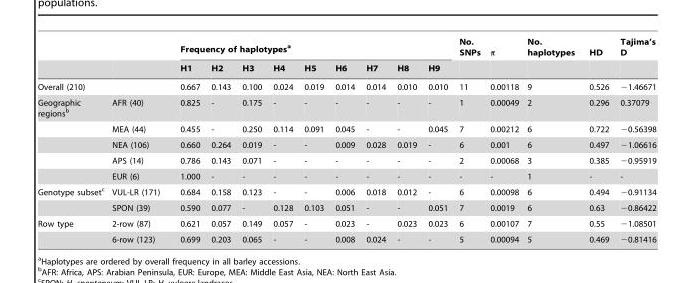table: (37, 37, 655, 243)
table column: (37, 37, 107, 243), (107, 37, 169, 243), (522, 37, 581, 243), (614, 37, 655, 243), (484, 37, 522, 243), (169, 37, 204, 243), (581, 37, 614, 243), (452, 37, 484, 243), (204, 37, 235, 243), (235, 37, 266, 243), (266, 37, 297, 243), (297, 37, 328, 243), (328, 37, 359, 243), (359, 37, 390, 243), (390, 37, 421, 243), (421, 37, 452, 243)
table column header: (37, 37, 655, 77)
table row: (37, 94, 655, 121), (37, 37, 655, 60), (37, 60, 655, 77), (37, 77, 655, 94), (37, 136, 655, 152), (37, 152, 655, 168), (37, 183, 655, 199), (37, 199, 655, 215), (37, 215, 655, 231), (37, 121, 655, 136), (37, 168, 655, 183), (37, 231, 655, 243)
table spanning cell: (169, 37, 452, 60), (37, 94, 107, 183), (522, 37, 581, 77), (37, 77, 169, 94), (37, 183, 107, 215), (37, 215, 107, 243), (614, 37, 655, 77), (484, 37, 522, 77), (581, 37, 614, 77), (452, 37, 484, 77)
